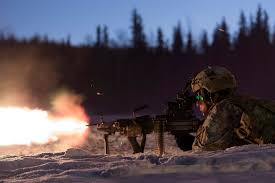gun: (82, 87, 205, 158)
